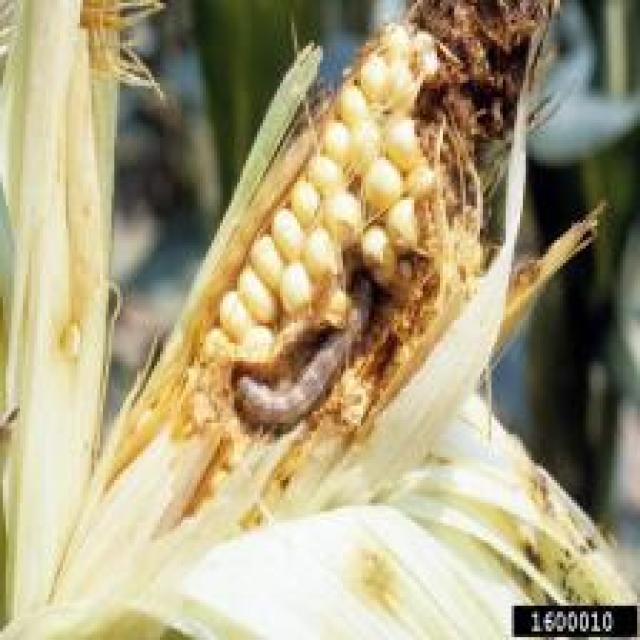Plaga: (217, 253, 417, 438)
